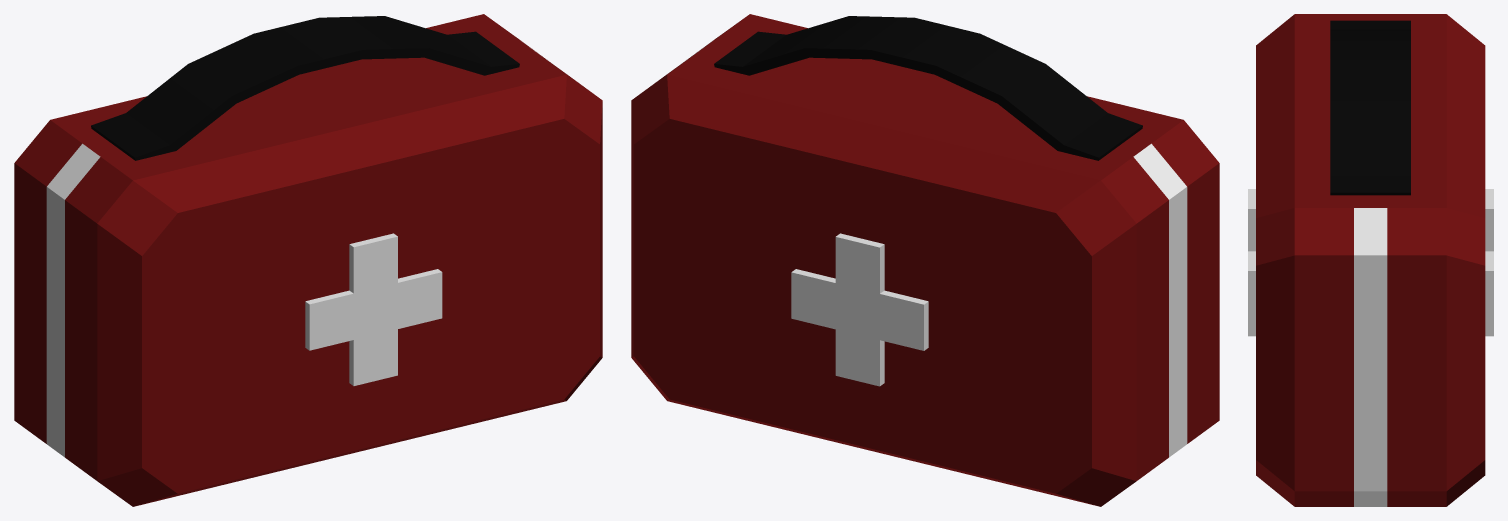
File: Medikit.FBX
3 renders of one model, left to right at view 1: azimuth 30°, elevation 25°; view 2: azimuth 150°, elevation 25°; view 3: azimuth 270°, elevation 25°, orthographic. The views are drawn at different scales.
Parts seen in each view (by area): view 1: Box002; view 2: Box002; view 3: Box002.
Part boxes in pixels (bbox=[...]): Box002: bbox=[14, 14, 602, 506]; Box002: bbox=[631, 14, 1219, 506]; Box002: bbox=[1248, 14, 1493, 506].
Size of the model in its own units: 0.5709 by 0.4123 by 0.2625.
